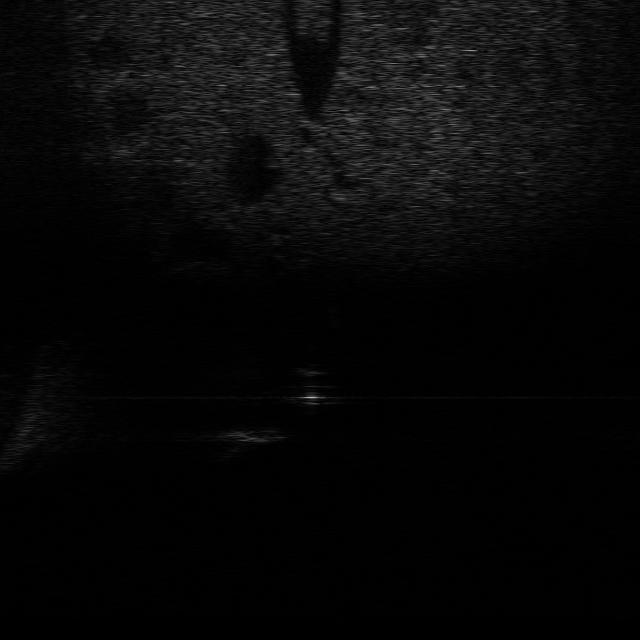ball: (285, 359, 336, 385)
square cage: (215, 422, 289, 454)
tyre: (278, 387, 348, 410)
